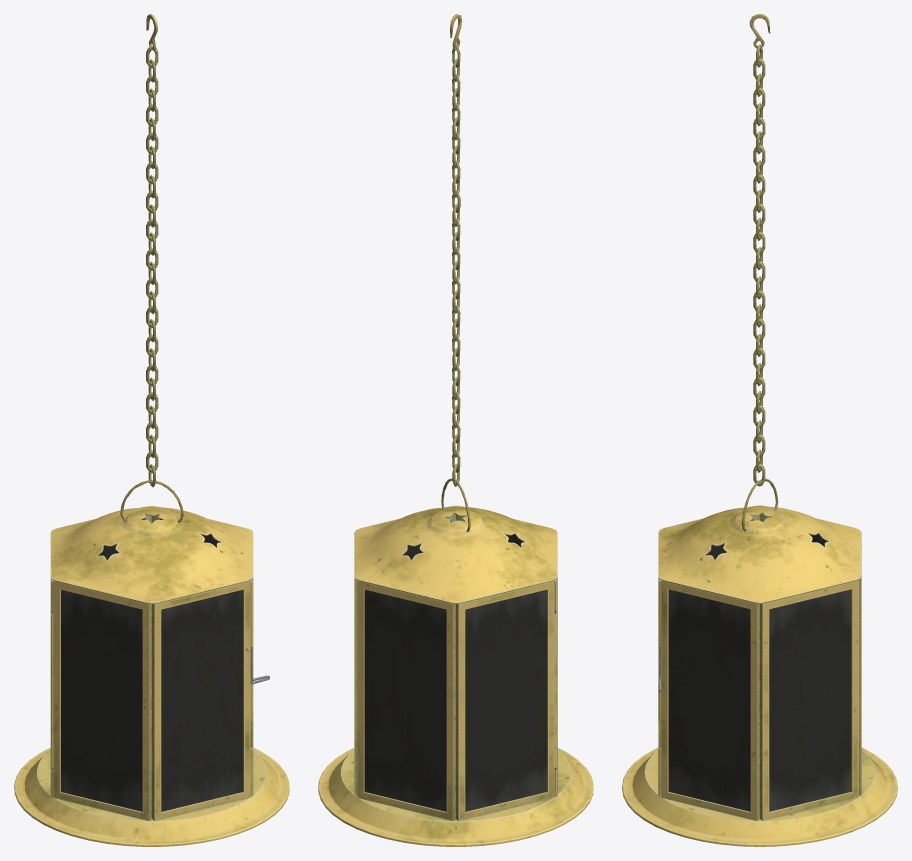
The model's file is brass_diya_lantern.glb.
3 views of the same model, side by side, from view 1: azimuth 30°, elevation 25°; view 2: azimuth 150°, elevation 25°; view 3: azimuth 270°, elevation 25° (orthographic).
Visible parts, largest first — view 1: brass_diya_lantern, brass_diya_lantern_connection; view 2: brass_diya_lantern, brass_diya_lantern_connection; view 3: brass_diya_lantern, brass_diya_lantern_connection.
Boxes of the visible parts, x1,y1,x2,y2 form: brass_diya_lantern: [14, 505, 289, 846]; brass_diya_lantern_connection: [120, 14, 183, 522]; brass_diya_lantern: [318, 505, 593, 846]; brass_diya_lantern_connection: [441, 14, 470, 531]; brass_diya_lantern: [622, 505, 897, 846]; brass_diya_lantern_connection: [741, 14, 778, 530].
Size of the model in its own units: 0.123 by 0.3807 by 0.123.
Materials: 3 (3 with a texture image).
